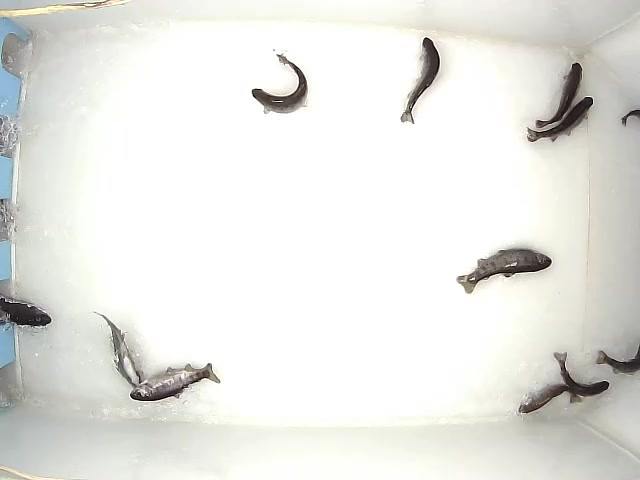fish: (456, 247, 552, 295), (92, 309, 144, 391), (250, 47, 309, 115), (400, 35, 442, 125), (129, 362, 221, 402), (535, 60, 583, 130), (525, 95, 594, 143), (553, 351, 610, 398), (518, 383, 583, 418), (596, 343, 640, 377)
